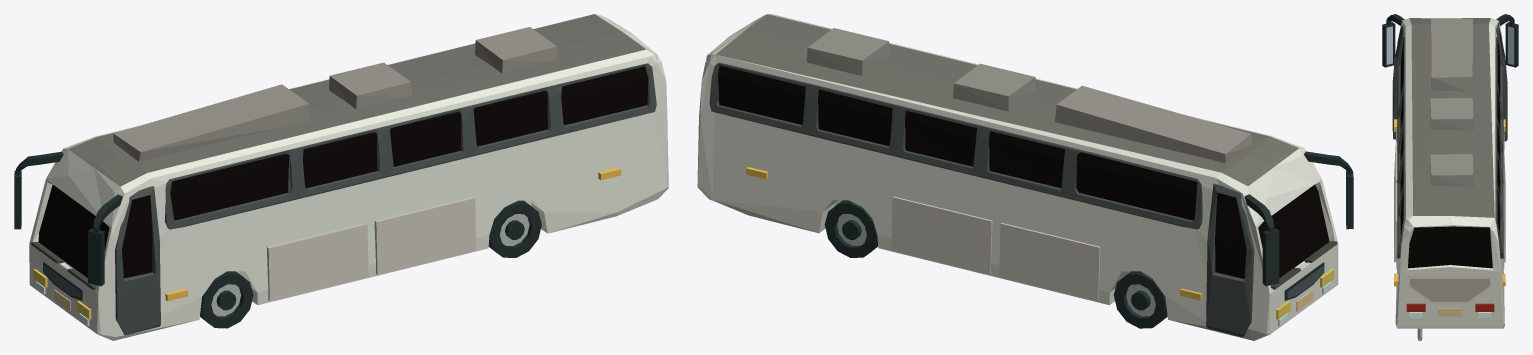
File: Bus.fbx
The picture shows the model from 3 angles, left to right: view 1: azimuth 30°, elevation 25°; view 2: azimuth 150°, elevation 25°; view 3: azimuth 270°, elevation 25°; orthographic projection. The views are drawn at different scales.
Parts seen in each view (by area): view 1: Bus, Wheel_A, Wheel_C; view 2: Bus, Wheel_B, Wheel_D; view 3: Bus.
Part boxes in pixels (x1,y1,x2,y2): Bus: [14, 14, 668, 340]; Wheel_A: [200, 271, 253, 328]; Wheel_C: [488, 200, 541, 257]; Bus: [697, 14, 1353, 340]; Wheel_B: [1113, 271, 1167, 328]; Wheel_D: [824, 200, 877, 257]; Bus: [1382, 14, 1518, 340].
Bounding box in the file's own units: 991 × 296 × 251.
